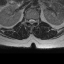CCS_normal: (30, 17, 32, 25)
LFS_normal: (35, 17, 37, 24)
LLS_normal: (32, 17, 34, 24)
RFS_normal: (26, 17, 28, 24)
RLS_normal: (28, 17, 30, 24)
